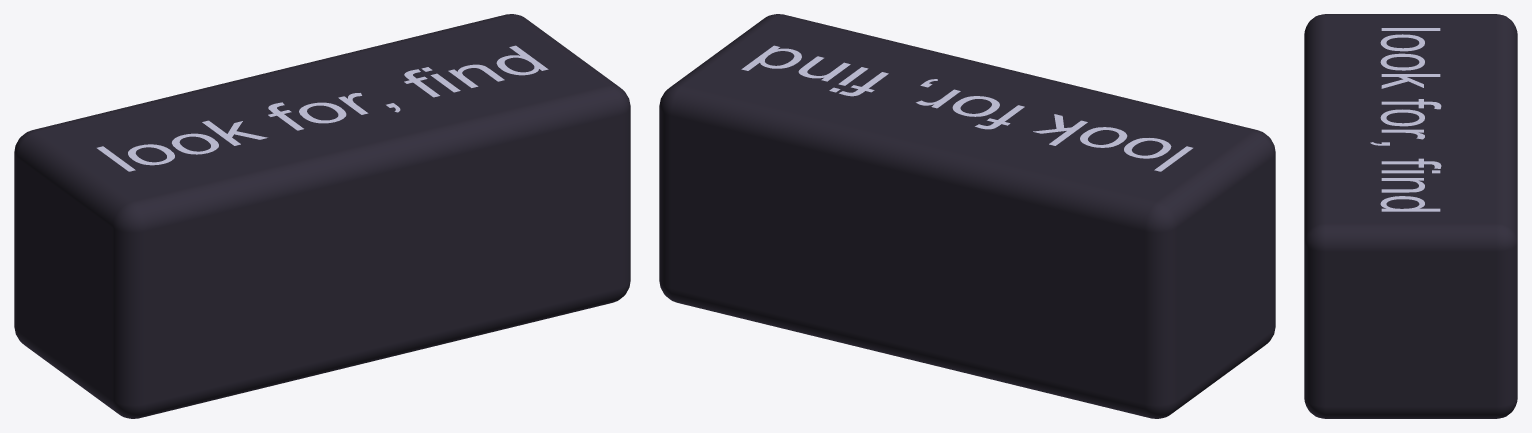
Rendered from look_for.glb.
The picture shows the model from 3 angles, left to right: view 1: azimuth 30°, elevation 25°; view 2: azimuth 150°, elevation 25°; view 3: azimuth 270°, elevation 25°; orthographic projection. The views are drawn at different scales.
Parts seen in each view (by area): view 1: Cut, Extrude; view 2: Cut, Extrude; view 3: Cut, Extrude.
Part boxes in pixels (bbox=[...]): Cut: bbox=[14, 14, 630, 418]; Extrude: bbox=[97, 45, 548, 171]; Cut: bbox=[659, 14, 1275, 418]; Extrude: bbox=[741, 45, 1192, 171]; Cut: bbox=[1304, 14, 1517, 418]; Extrude: bbox=[1370, 28, 1441, 211].
Size of the model in its own units: 5 by 2 by 2.
